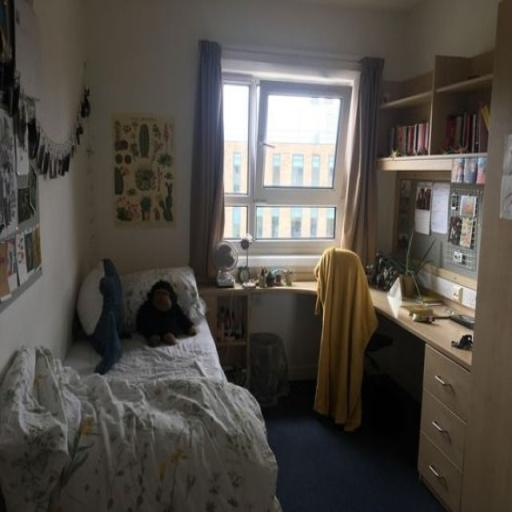bus: (305, 245, 381, 440)
person: (0, 317, 279, 511)
road: (378, 153, 486, 171), (436, 74, 492, 93), (380, 91, 431, 109), (216, 340, 246, 347)
stroller: (190, 199, 481, 505)
traffic_light: (249, 333, 288, 406)
